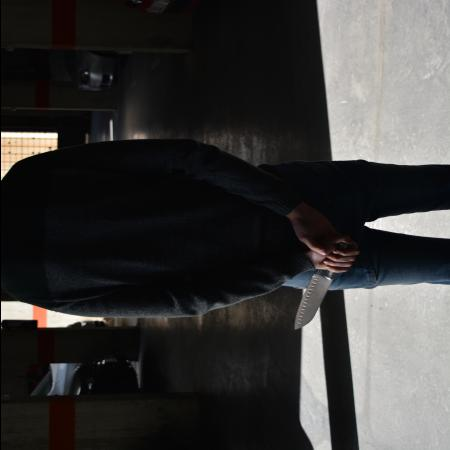long weapon: (288, 241, 348, 332)
